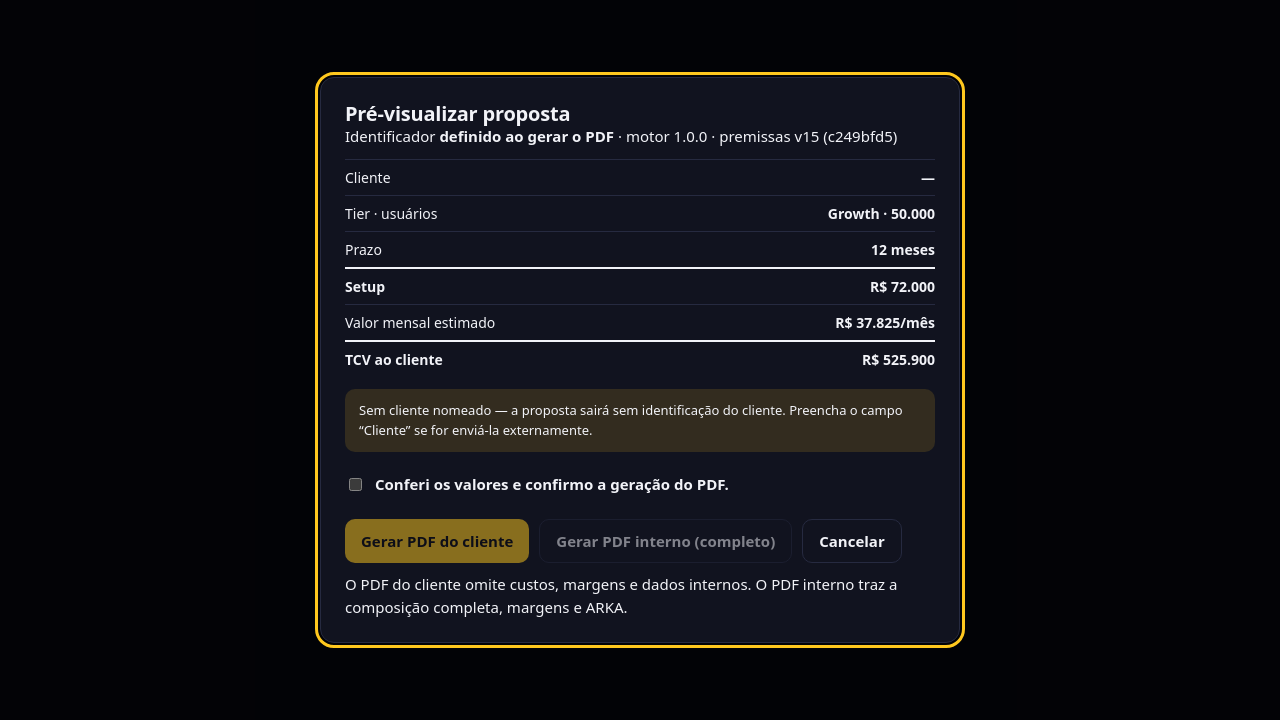
it: PreviewModal — falha ao gerar NÃO queima a sequência (§15) › erro é exibido e o contador de sequência permanece inalterado
This screenshot has width=1280, height=720.
confirma e tenta gerar
What coordinates should you click on to do the following:
click the checkbox
I would click on:
 (356, 484)
Its box is [349,478,362,491].
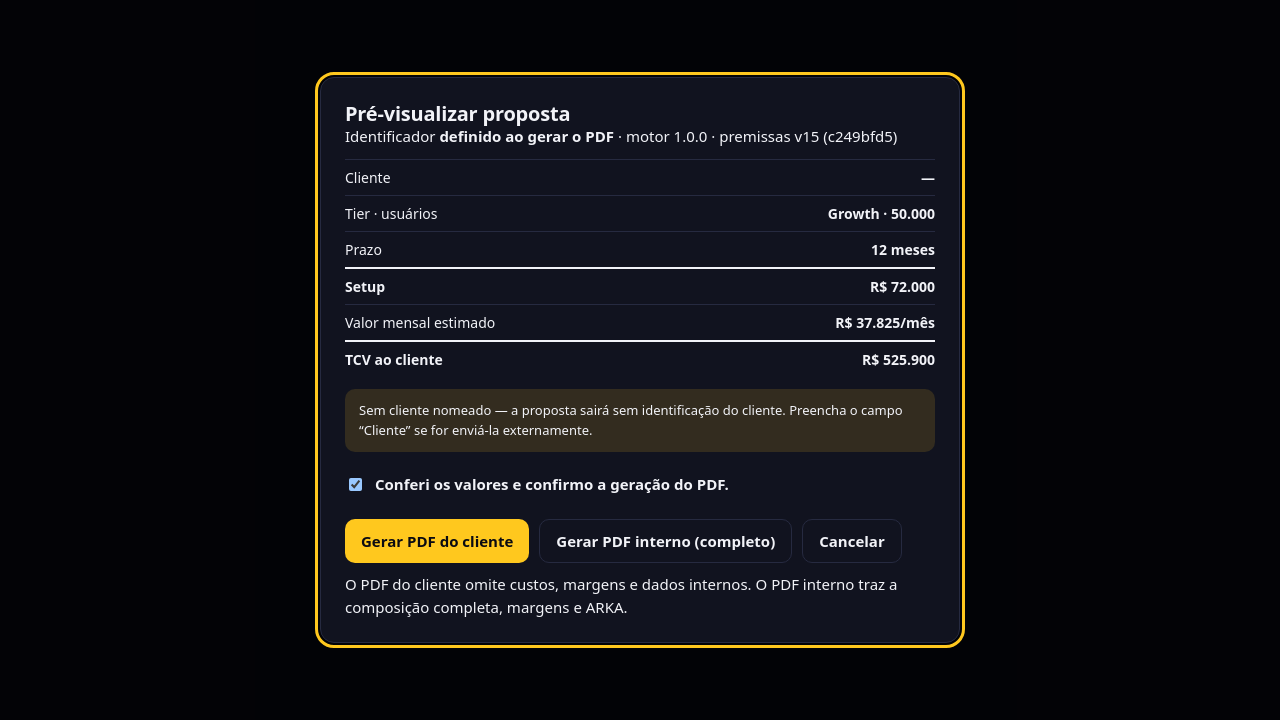
What coordinates should you click on to do the following:
click the button "Gerar PDF do cliente"
I would click on:
 (437, 541)
Its box is [345,519,529,563].
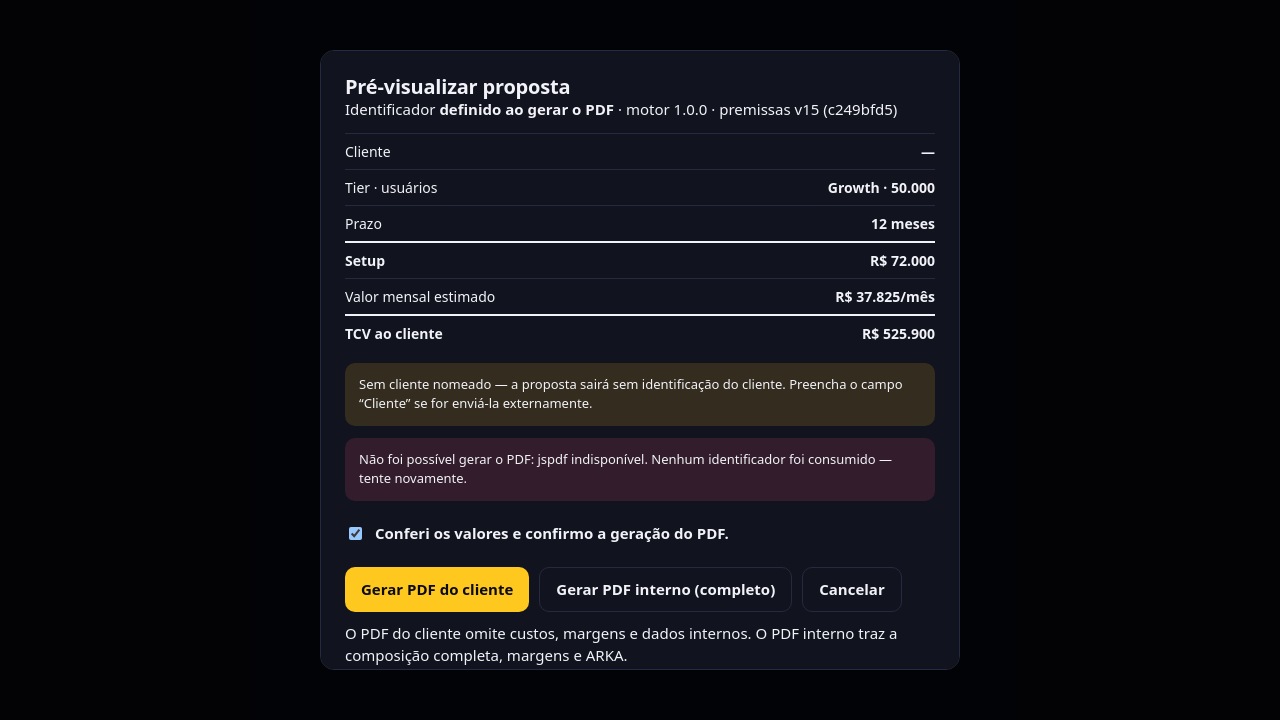
Result: the text "Nenhum identificador foi consumido" is shown at [359,450,892,487]
